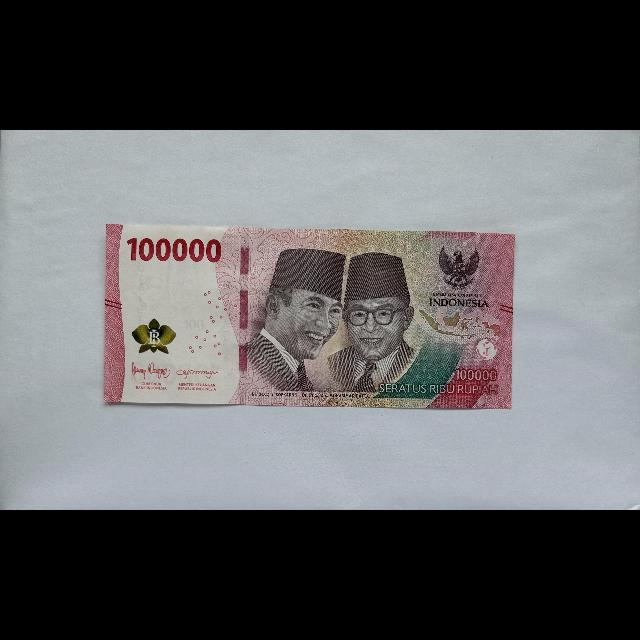Asli-100k: (103, 222, 517, 412)
Tinta-Asli-100k: (131, 317, 177, 355)
